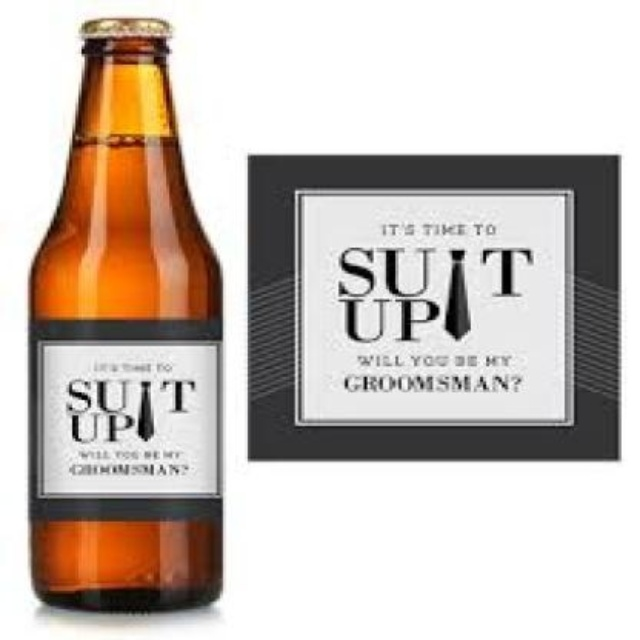trash: (31, 18, 220, 609)
